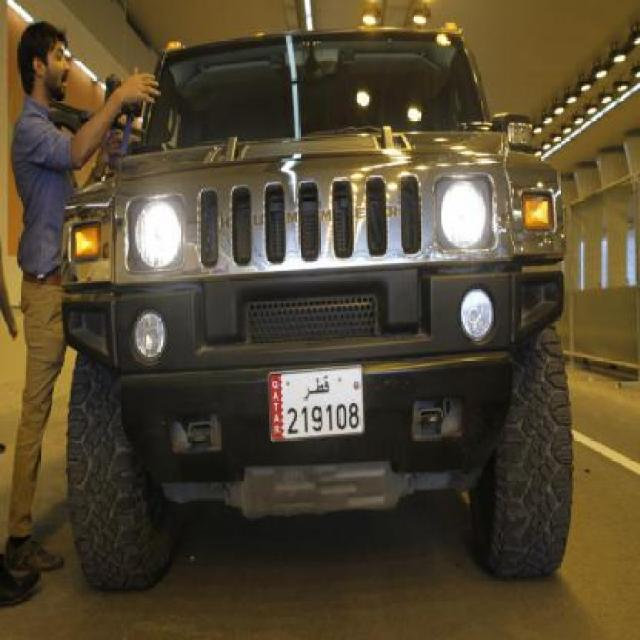License-Plates: (268, 364, 366, 443)
